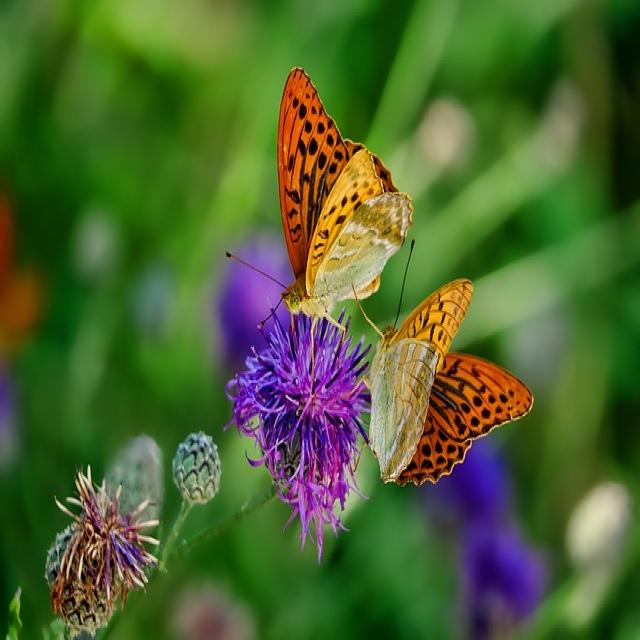butterfly: (366, 279, 536, 488), (277, 68, 414, 323)
